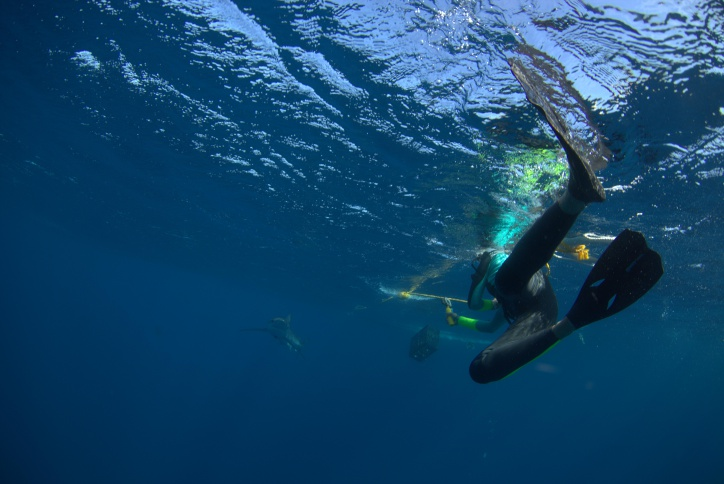Azul: (220, 293, 328, 365)
